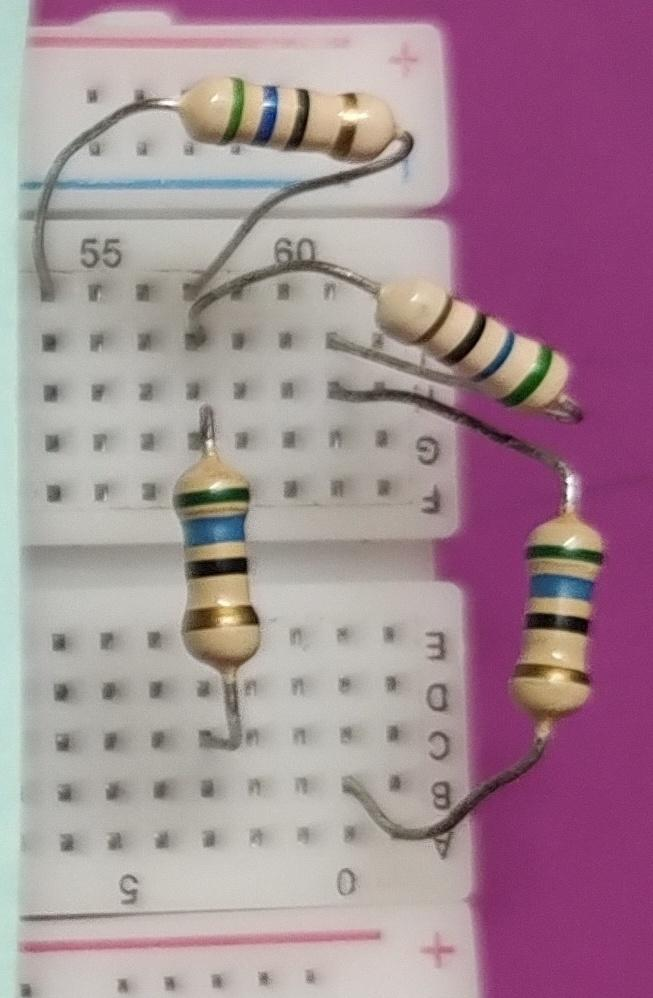resistor: (367, 259, 584, 420), (155, 451, 274, 676), (171, 69, 411, 171), (511, 507, 610, 726)
